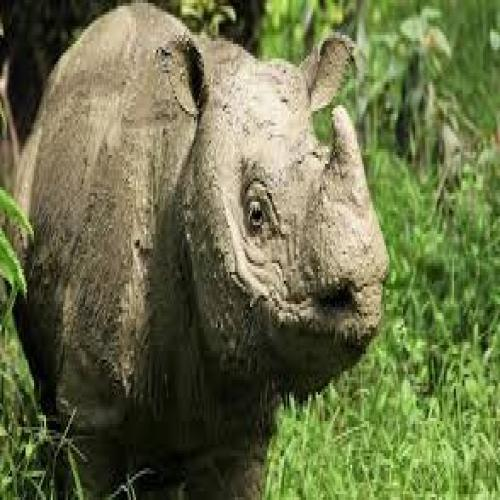rhino-endangered: (18, 1, 388, 497)
